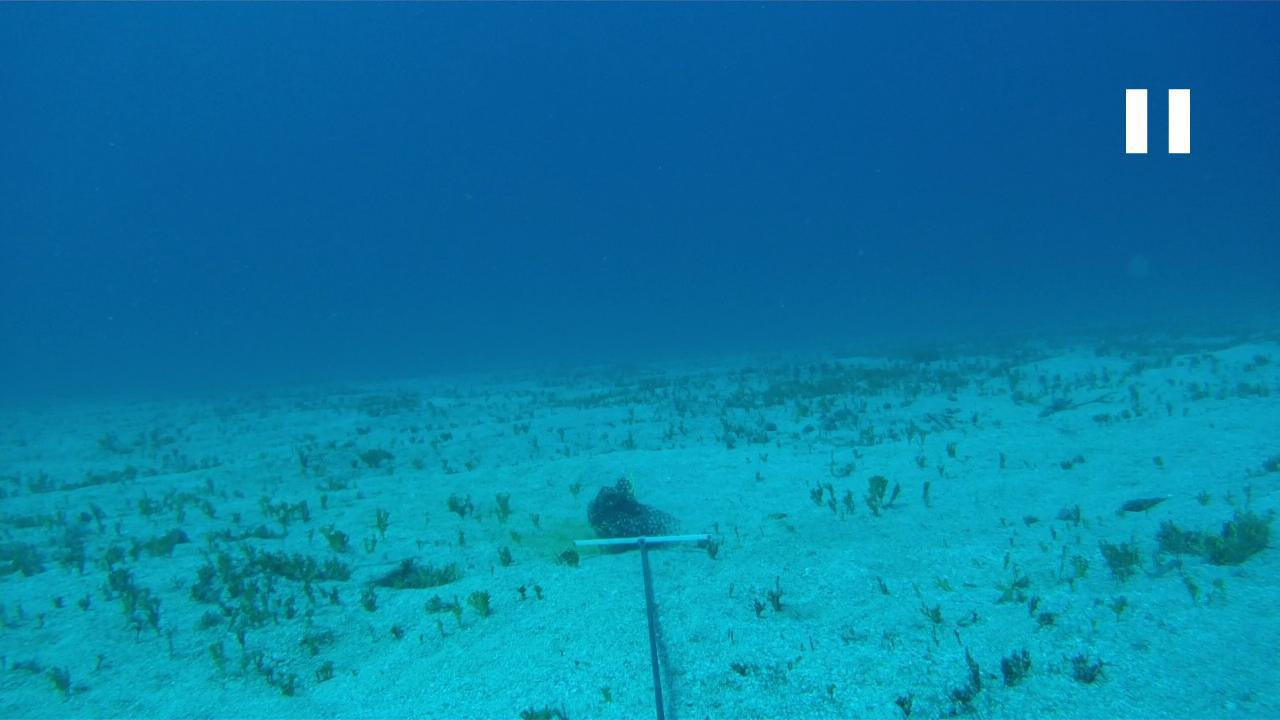bothus: (348, 548, 420, 567)
